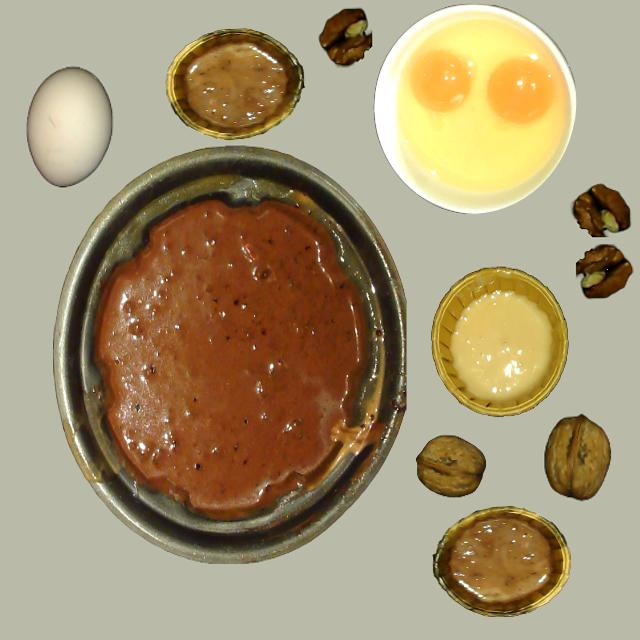Egg: (491, 57, 559, 190), (486, 56, 556, 126), (411, 50, 474, 114)
Walnut: (407, 430, 492, 503), (544, 415, 610, 500)
